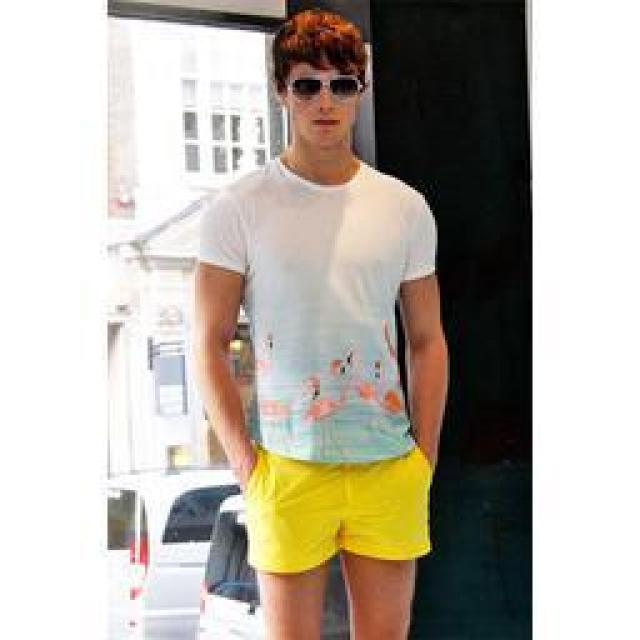Tshirt: (192, 152, 440, 468)
short: (240, 450, 432, 575)
